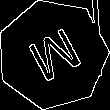M_SE: (20, 21, 85, 88)
